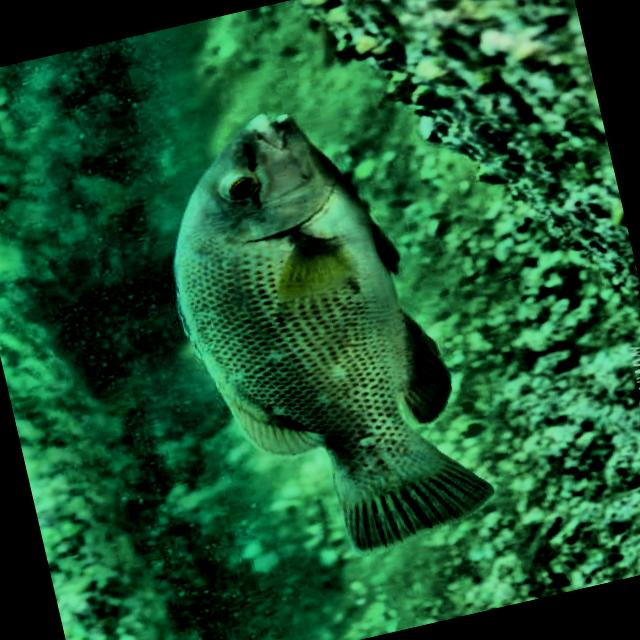fish: (124, 76, 504, 579)
